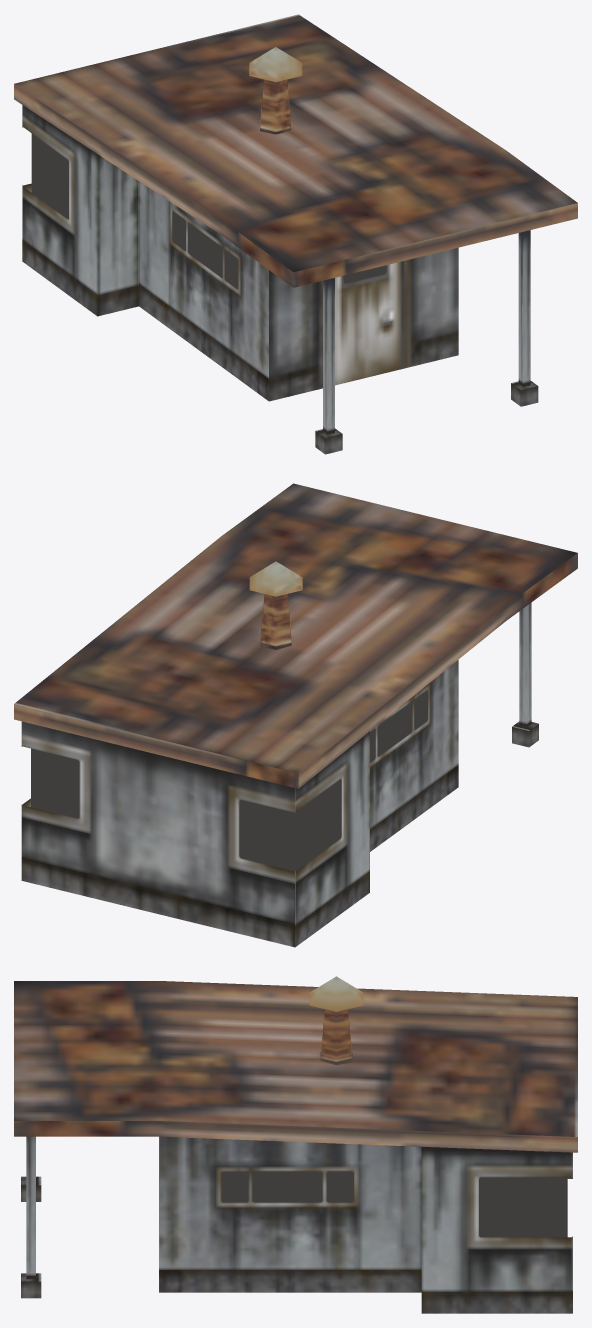
File: singlecivlivingd.glb
3 renders of one model, top to bottom at view 1: azimuth 30°, elevation 25°; view 2: azimuth 150°, elevation 25°; view 3: azimuth 270°, elevation 25°, orthographic.
Parts seen in each view (by area): view 1: Box02, LitWin_SingleCivLivingD; view 2: Box02, LitWin_SingleCivLivingD; view 3: Box02, LitWin_SingleCivLivingD.
Part boxes in pixels (x1,y1,x2,y2): Box02: (14,14,577,454); LitWin_SingleCivLivingD: (31,133,386,289); Box02: (14,483,577,947); LitWin_SingleCivLivingD: (31,691,427,871); Box02: (14,976,577,1313); LitWin_SingleCivLivingD: (221,1171,567,1237).
Bounding box in the file's own units: 4.16 × 3.73 × 7.07.
1 material, 1 textured.
